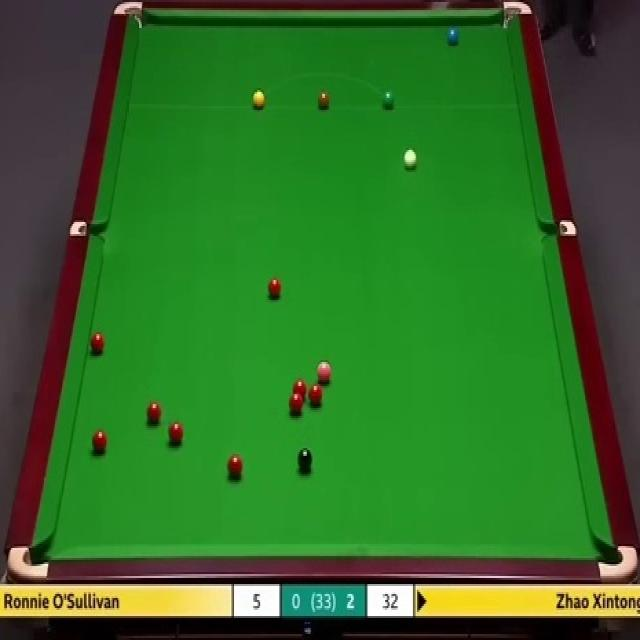black-ball: (298, 448, 314, 471)
blue-ball: (448, 27, 458, 48)
brown-ball: (317, 92, 330, 109)
green-ball: (382, 88, 396, 112)
pink-ball: (315, 364, 332, 380)
red-ball: (226, 453, 244, 477), (287, 390, 305, 414), (290, 378, 308, 402), (92, 430, 108, 456), (145, 401, 161, 427), (168, 423, 185, 447), (308, 384, 324, 406), (90, 330, 105, 352), (266, 278, 282, 297)
white-ball: (403, 147, 418, 172)
yellow-ball: (252, 89, 266, 110)
